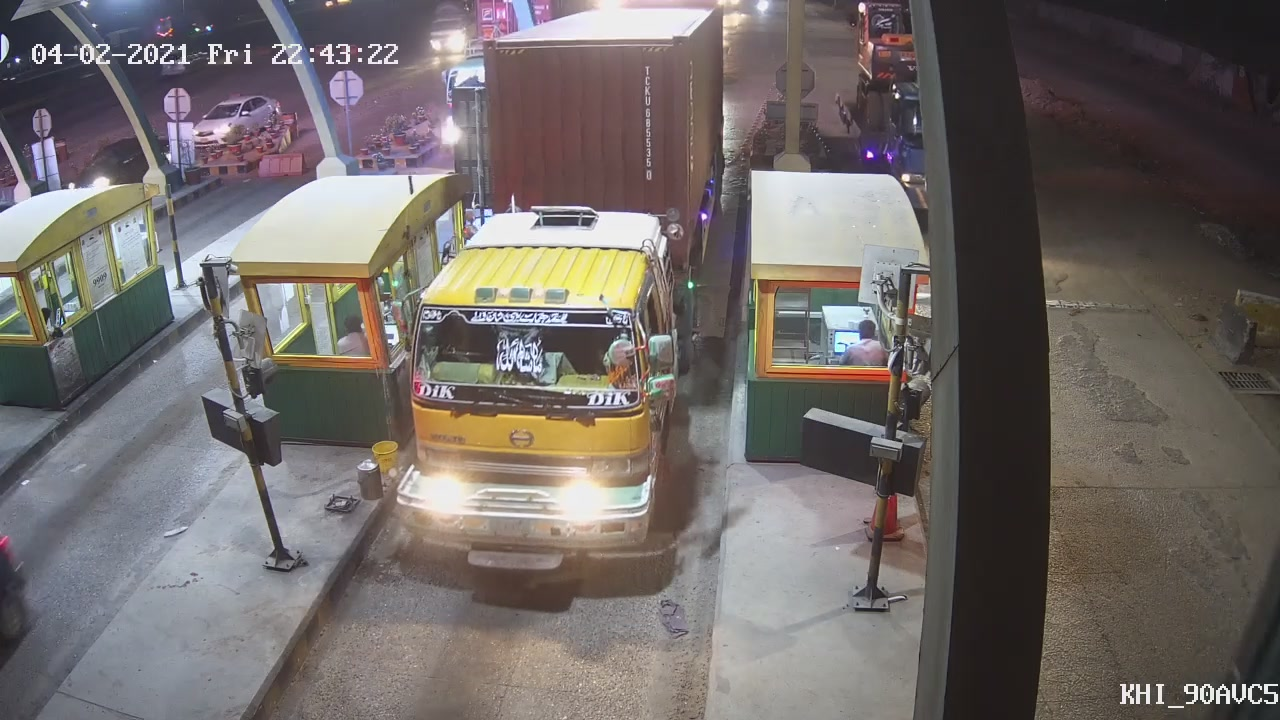F6: (394, 4, 734, 579)
